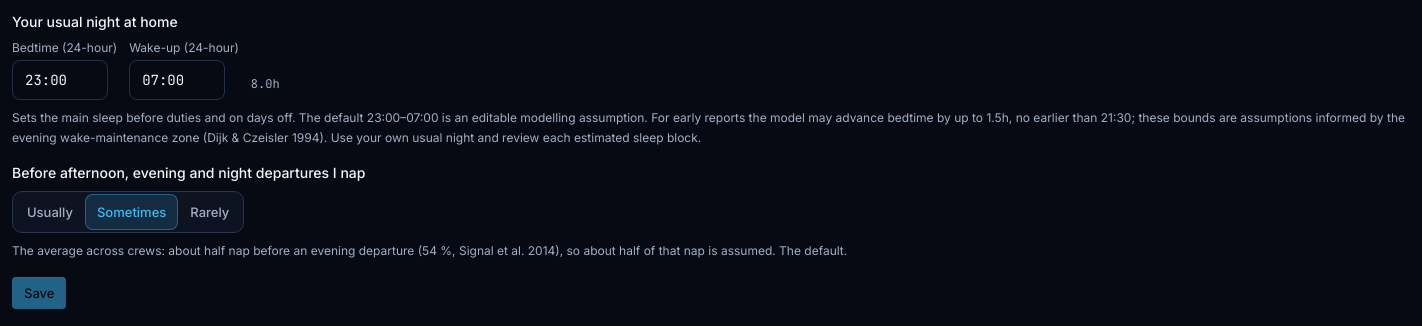
sleep preferences › saves a new usual night and nap habit, and explains each choice
Check: the button "Save" is disabled, box [12,276,66,308]
Check: the text "54 %, Signal et al. 2014" is shown, box [12,243,847,258]
Type "0:00" into the field labelled "Bedtime (24-hour)" at (60, 80), box [12,60,108,100]
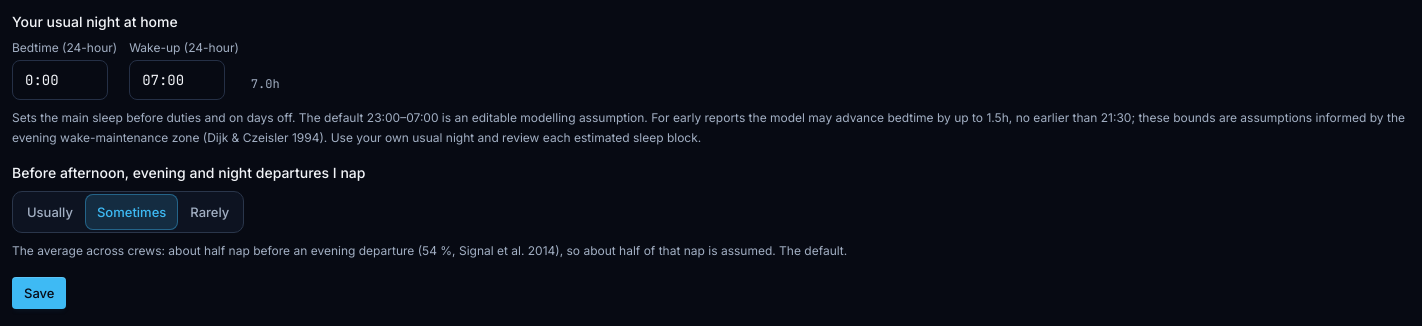
Type "06:00" into the field labelled "Wake-up (24-hour)" at (177, 80), box [129,60,225,100]
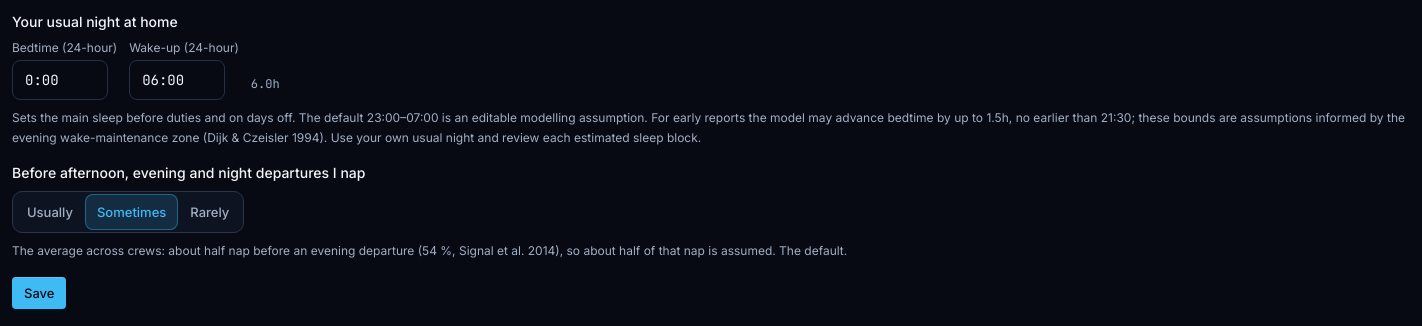
Click the radio button labelled "Rarely" at (210, 212), box [178,194,241,230]
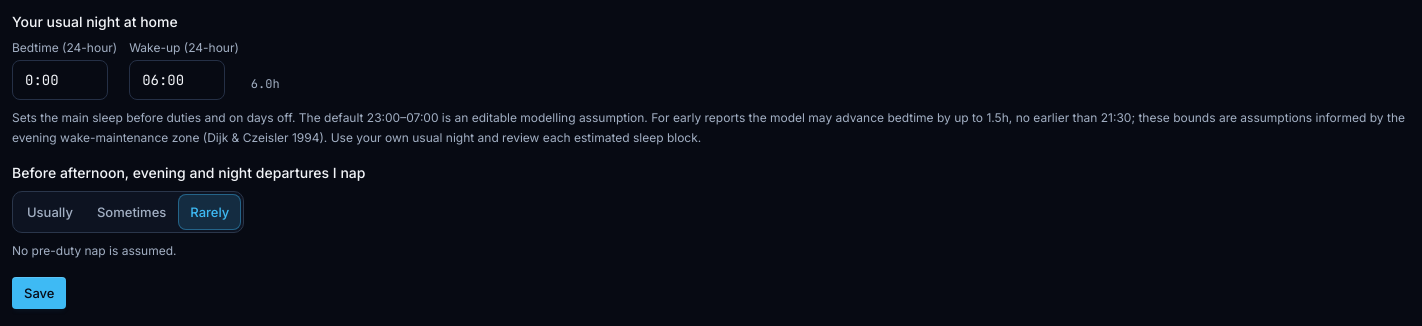
Check: the text "6.0h" is shown, box [251,76,280,100]
Check: the text "No pre-duty nap is assumed." is shown, box [12,243,176,258]
Click the button "Save" at (39, 292), box [12,276,66,308]
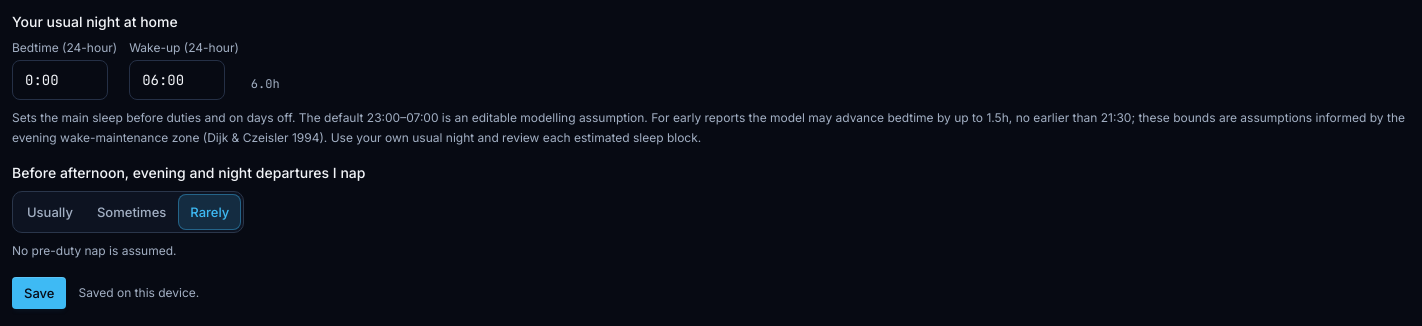
Check: the message reads "Saved on this device.", box [78,284,199,300]
